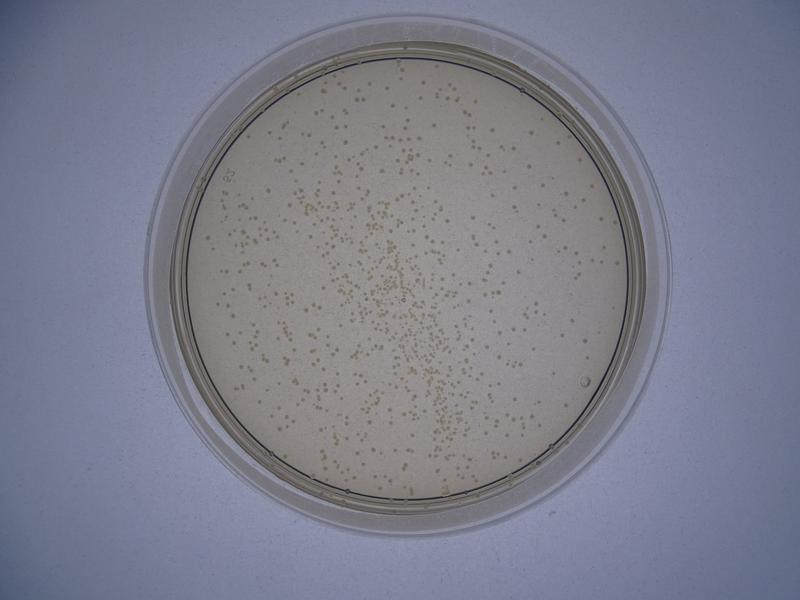colony: (261, 182, 272, 196), (339, 135, 351, 147), (377, 166, 389, 176), (525, 127, 537, 137), (427, 119, 438, 129), (317, 282, 327, 293), (385, 404, 395, 414), (566, 316, 577, 325), (203, 232, 214, 241), (595, 214, 604, 225), (487, 124, 496, 135), (275, 379, 284, 389), (547, 368, 557, 377), (469, 212, 477, 221)
